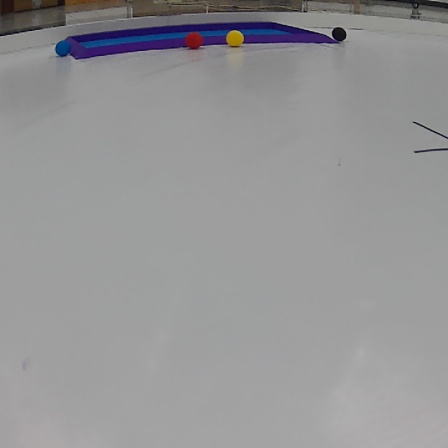black: (332, 27, 347, 45)
blue: (54, 39, 73, 56)
blue_aim: (56, 19, 342, 61)
red: (185, 31, 205, 50)
yellow: (224, 29, 247, 48)
